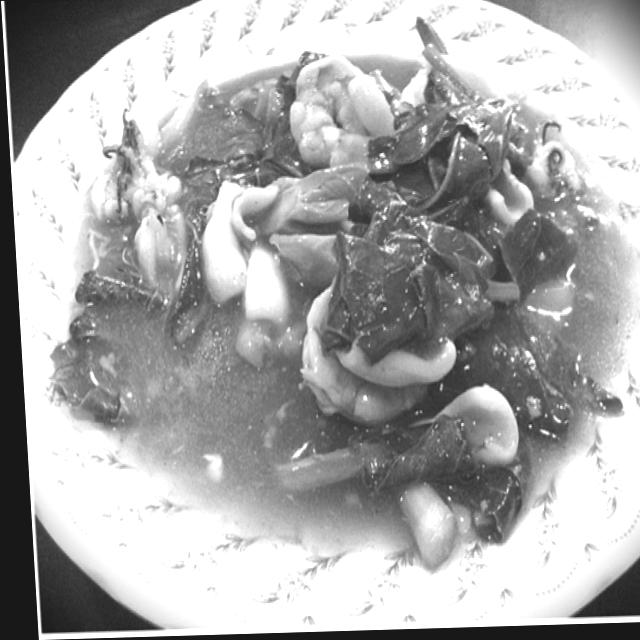面条主食: (53, 39, 640, 597)
